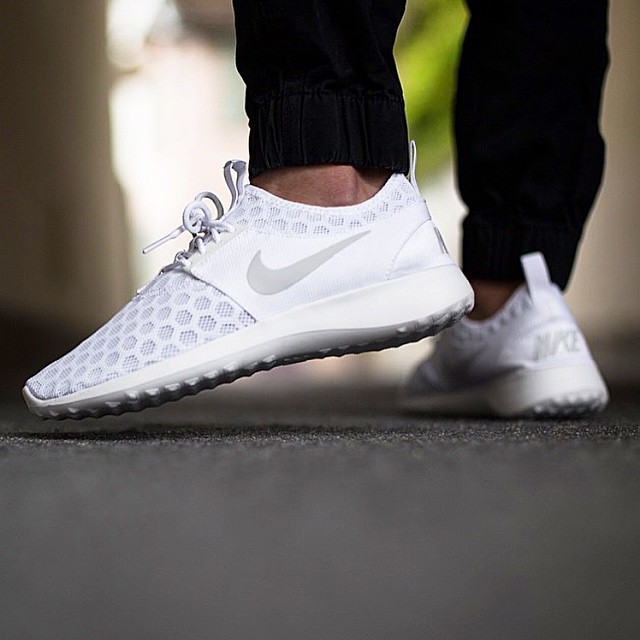sneaker: (10, 138, 504, 431), (380, 240, 618, 442)
